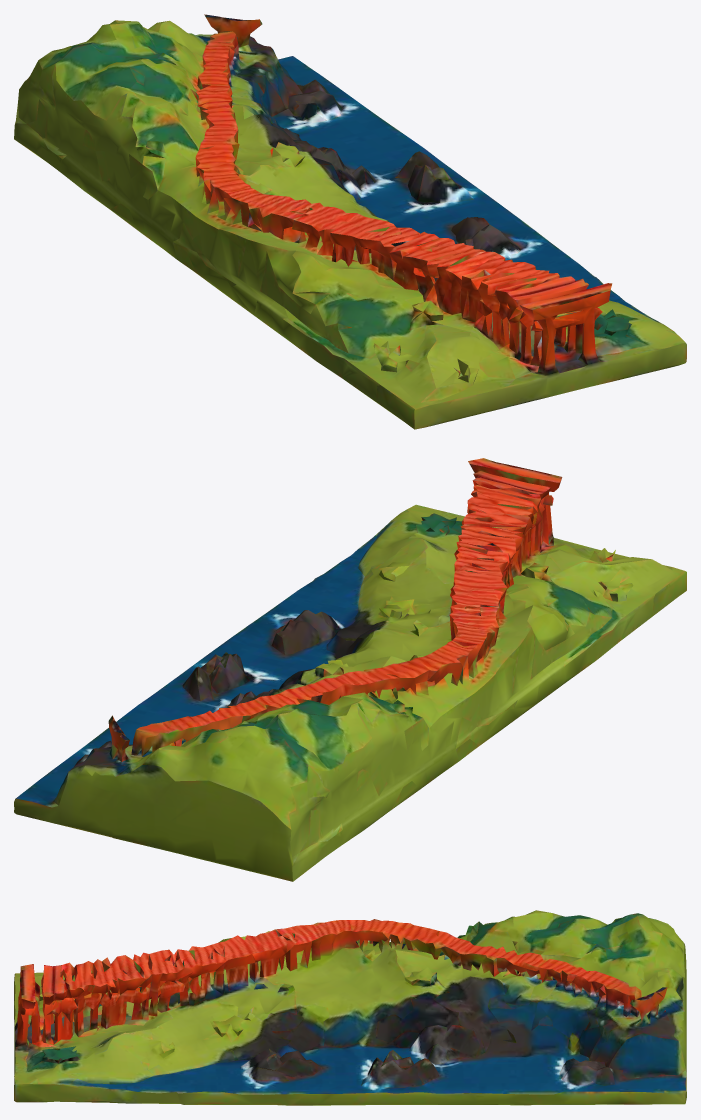
The model's file is motonosumi-shrine.glb.
3 views of the same model, one above another, from view 1: azimuth 30°, elevation 25°; view 2: azimuth 150°, elevation 25°; view 3: azimuth 270°, elevation 25° (orthographic). The views are drawn at different scales.
Visible parts, largest first — view 1: logan-textured.obj; view 2: logan-textured.obj; view 3: logan-textured.obj.
Boxes of the visible parts, box(x1,y1,x2,y2) form: logan-textured.obj: box(14, 14, 686, 429); logan-textured.obj: box(14, 458, 686, 881); logan-textured.obj: box(14, 910, 686, 1105).
Size of the model in its own units: 0.4147 by 0.1659 by 1.
1 material, 1 textured.
